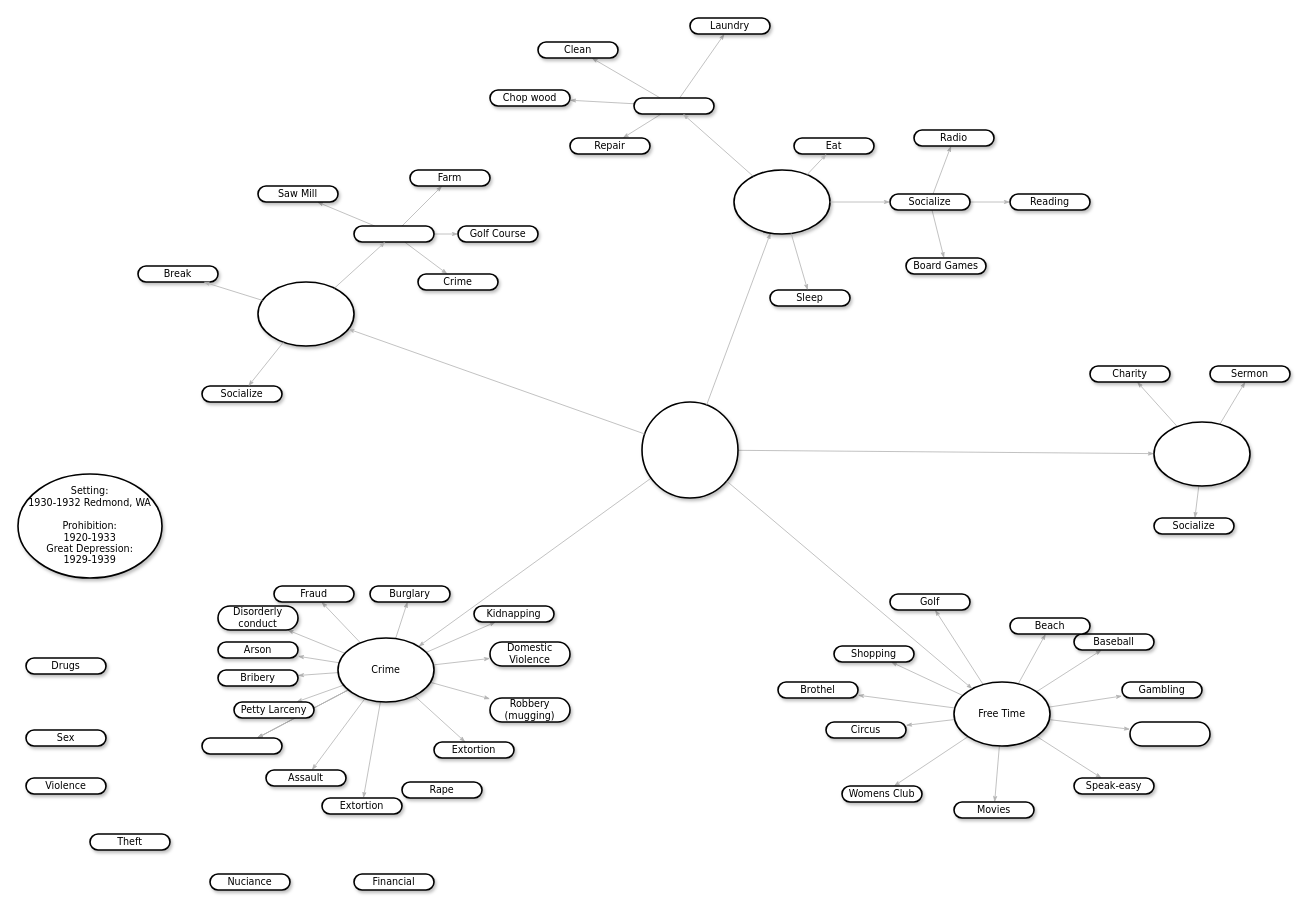
Some shapes in this 1309 by 910 pixel diagram are drawn without their labels. The centre of each missing label's shape, as x and y in pixels:
"Bootlegging" goes at point (242, 747).
"Chores" goes at point (674, 107).
"Church (Sunday)" goes at point (1202, 455).
"Home" goes at point (782, 203).
"NPC Routine" goes at point (690, 451).
"Pie-eating Contest" goes at point (1170, 735).
"Work" goes at point (306, 315).
"Work Tasks" goes at point (394, 235).
